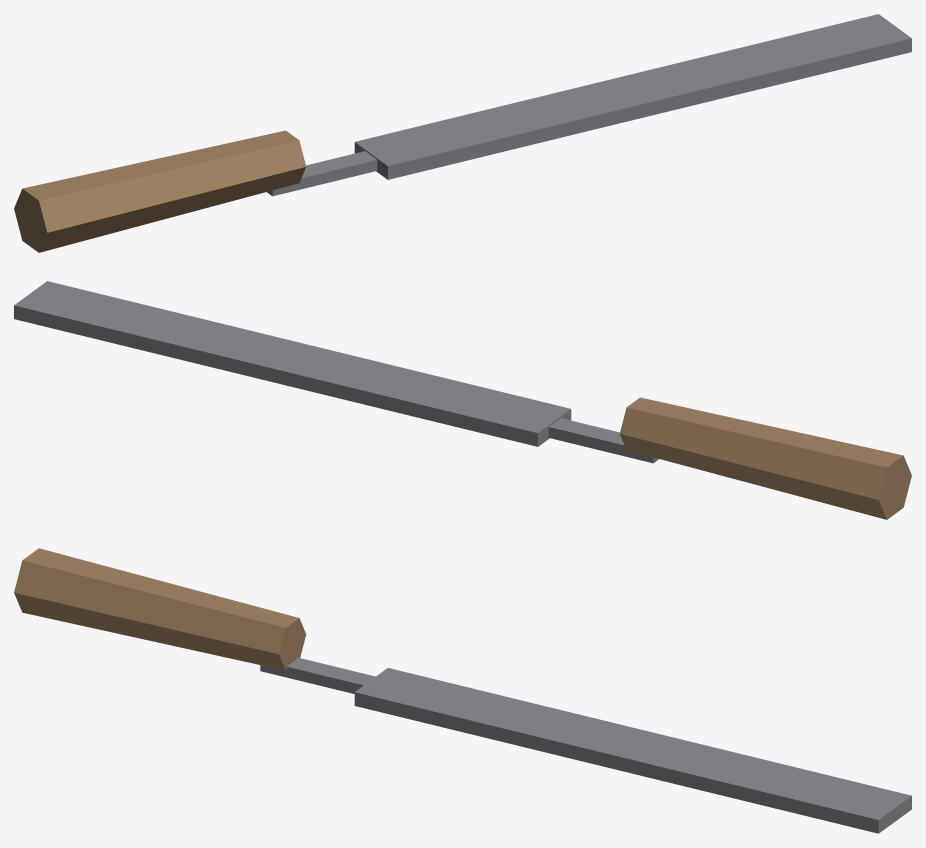
File: prop-file-flat-ls1.fbx
3 renders of one model, top to bottom at view 1: azimuth 30°, elevation 25°; view 2: azimuth 150°, elevation 25°; view 3: azimuth 330°, elevation 25°, orthographic.
Visible parts, largest first — view 1: prop-file-flat-ls1; view 2: prop-file-flat-ls1; view 3: prop-file-flat-ls1.
Boxes of the visible parts, bbox=[...] form: prop-file-flat-ls1: bbox=[14, 14, 911, 252]; prop-file-flat-ls1: bbox=[14, 281, 911, 519]; prop-file-flat-ls1: bbox=[14, 548, 911, 833].
Size of the model in its own units: 33 by 2.05 by 2.2.
